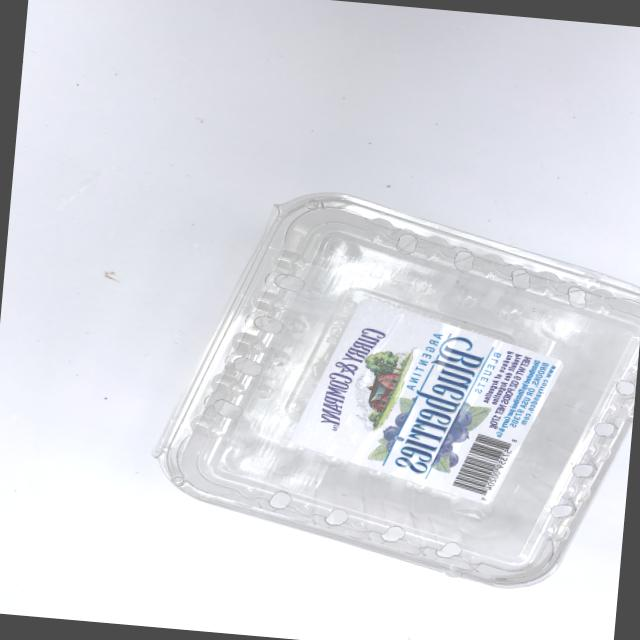Plastic: (93, 148, 640, 632)
